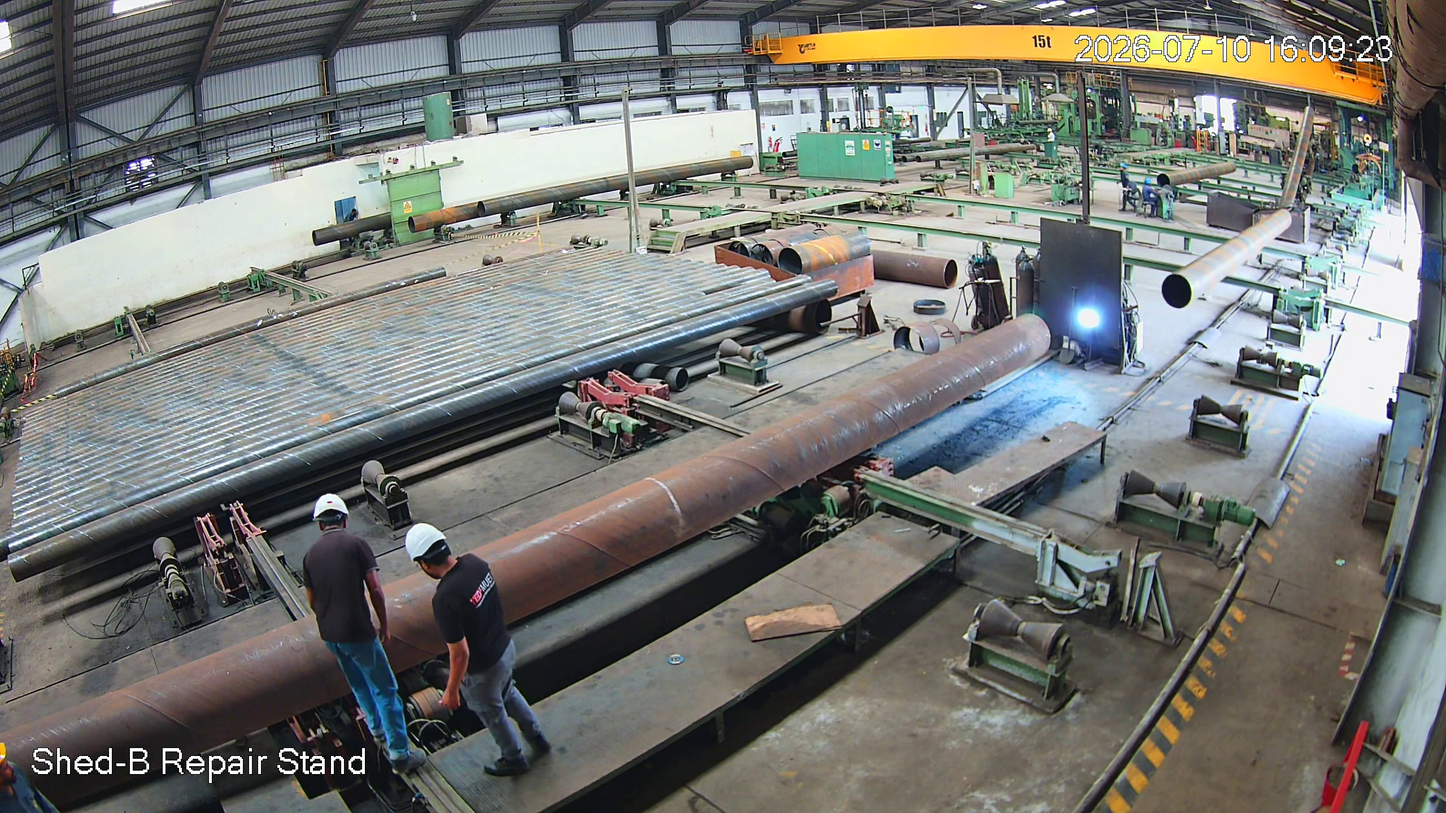Helmet: (392, 521, 473, 585), (310, 492, 363, 553)
Person: (302, 495, 416, 787), (375, 533, 473, 800)
